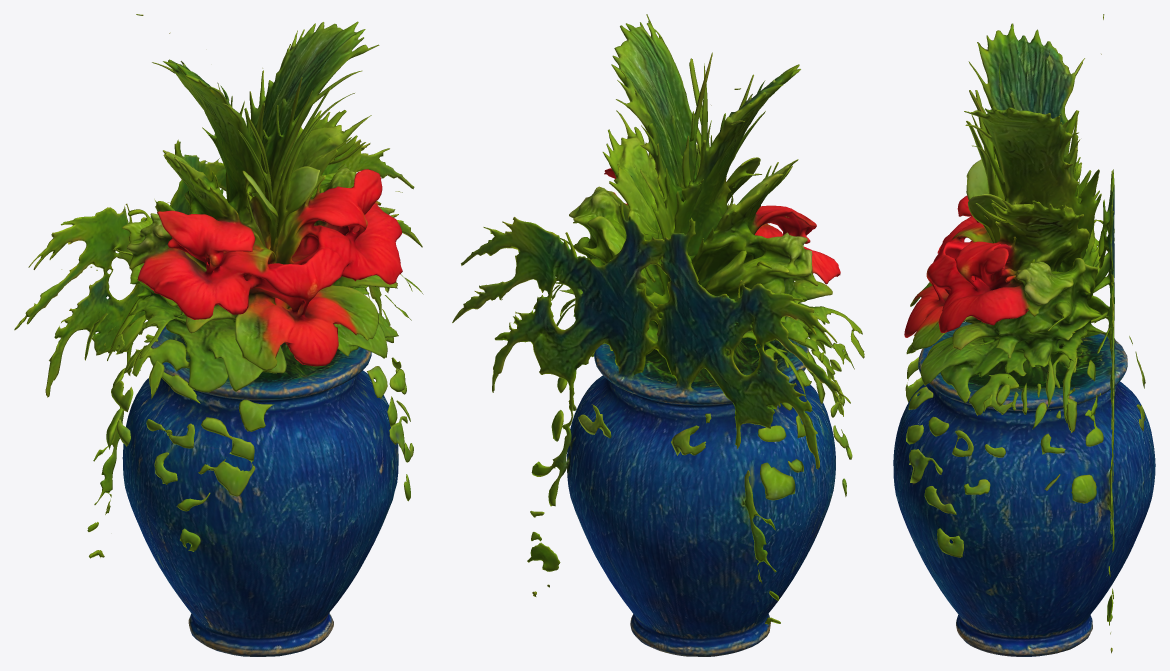
Rendered from tropical-planter-v165.glb.
The picture shows the model from 3 angles, left to right: view 1: azimuth 30°, elevation 25°; view 2: azimuth 150°, elevation 25°; view 3: azimuth 270°, elevation 25°; orthographic projection. The views are drawn at different scales.
Visible parts, largest first — view 1: model; view 2: model; view 3: model.
Boxes of the visible parts, <box> form: model: <box>14,14,423,656</box>; model: <box>452,14,864,656</box>; model: <box>893,14,1155,656</box>.
Bounding box in the file's own units: 1.23 × 1.75 × 0.719.
1 material, 1 textured.
